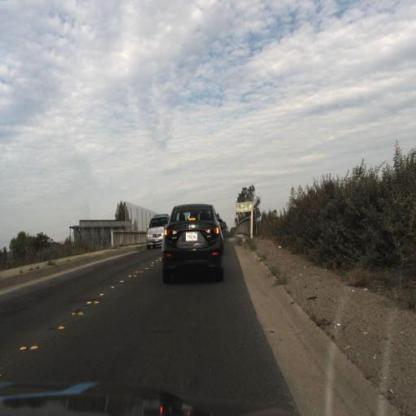car: (157, 198, 236, 290), (140, 208, 174, 255)
